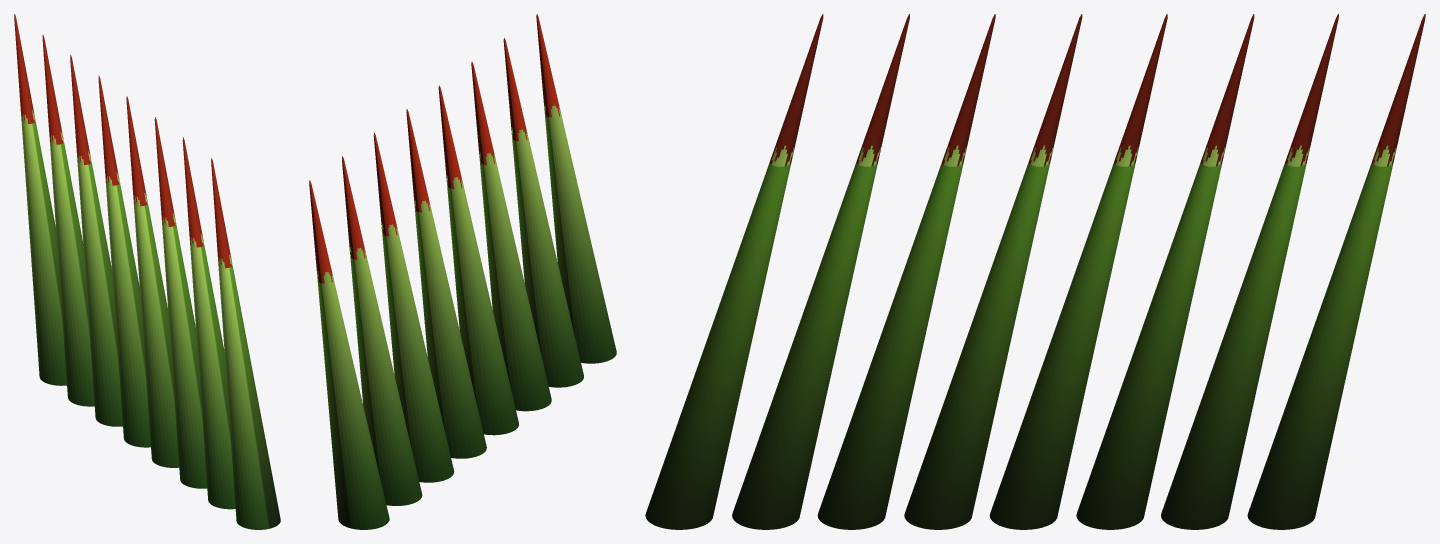
The model's file is spike_set.fbx.
The picture shows the model from 3 angles, left to right: view 1: azimuth 30°, elevation 25°; view 2: azimuth 150°, elevation 25°; view 3: azimuth 270°, elevation 25°; orthographic projection. The views are drawn at different scales.
Visible parts, largest first — view 1: Cylinder; view 2: Cylinder; view 3: Cylinder.
Part boxes in pixels (bbox=[...]): Cylinder: bbox=[14, 14, 280, 529]; Cylinder: bbox=[309, 14, 616, 529]; Cylinder: bbox=[645, 14, 1425, 529].
Bounding box in the file's own units: 87.14 × 709 × 999.
